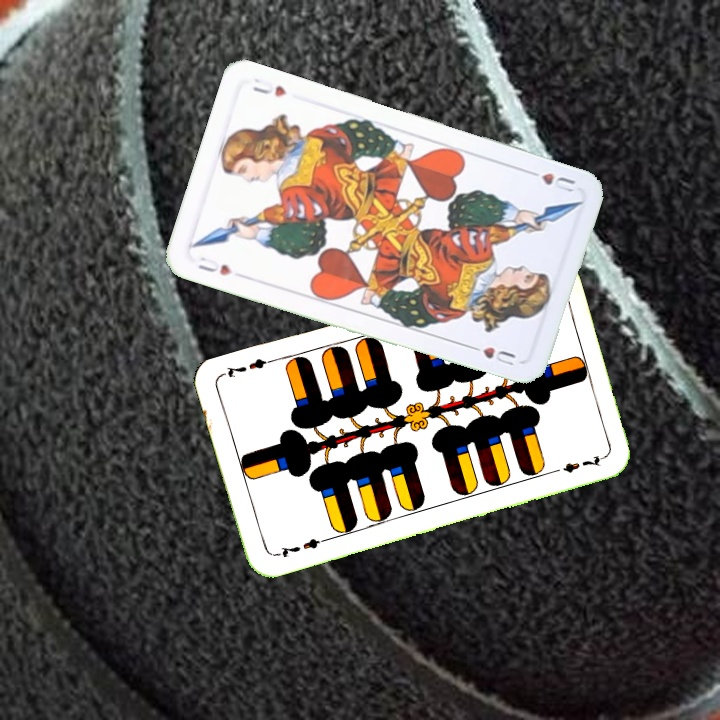E7: (270, 534, 328, 560)
HU: (522, 165, 578, 195), (194, 252, 235, 278)
